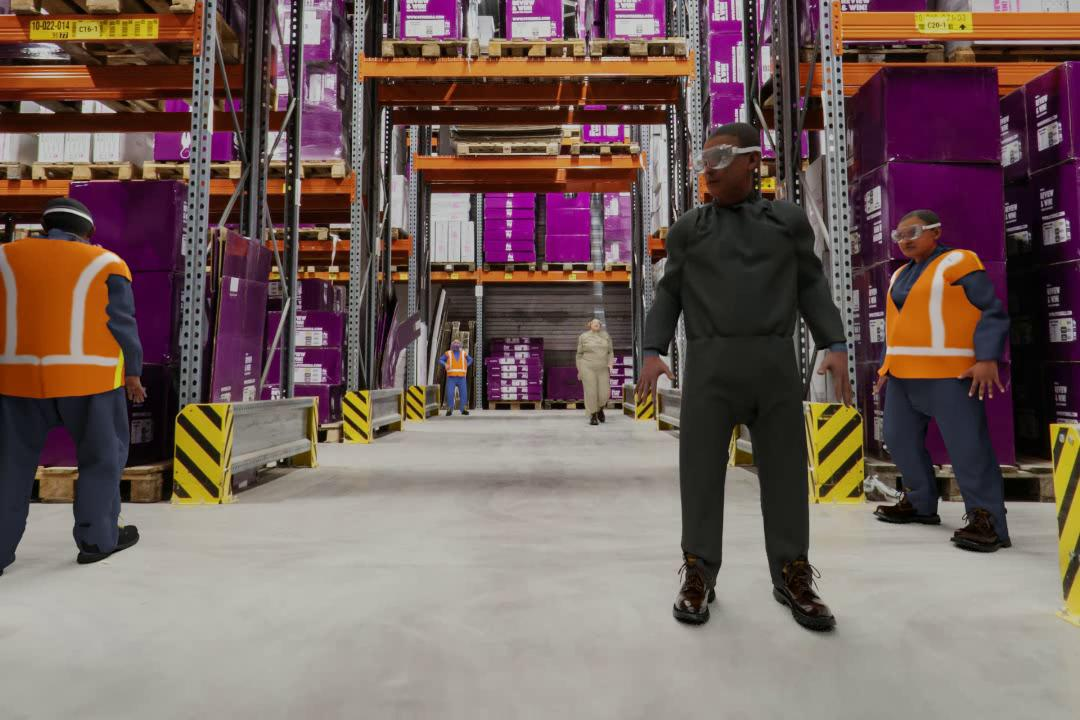Goggles: (695, 144, 775, 174), (884, 221, 950, 244)
Jacket: (6, 234, 139, 410), (880, 254, 986, 390), (442, 350, 473, 381)
Shoes: (765, 555, 845, 632), (671, 551, 721, 624), (950, 504, 1014, 553), (74, 523, 147, 563), (866, 492, 947, 525), (597, 407, 608, 425), (588, 412, 600, 427), (445, 409, 453, 418), (459, 410, 471, 416)
